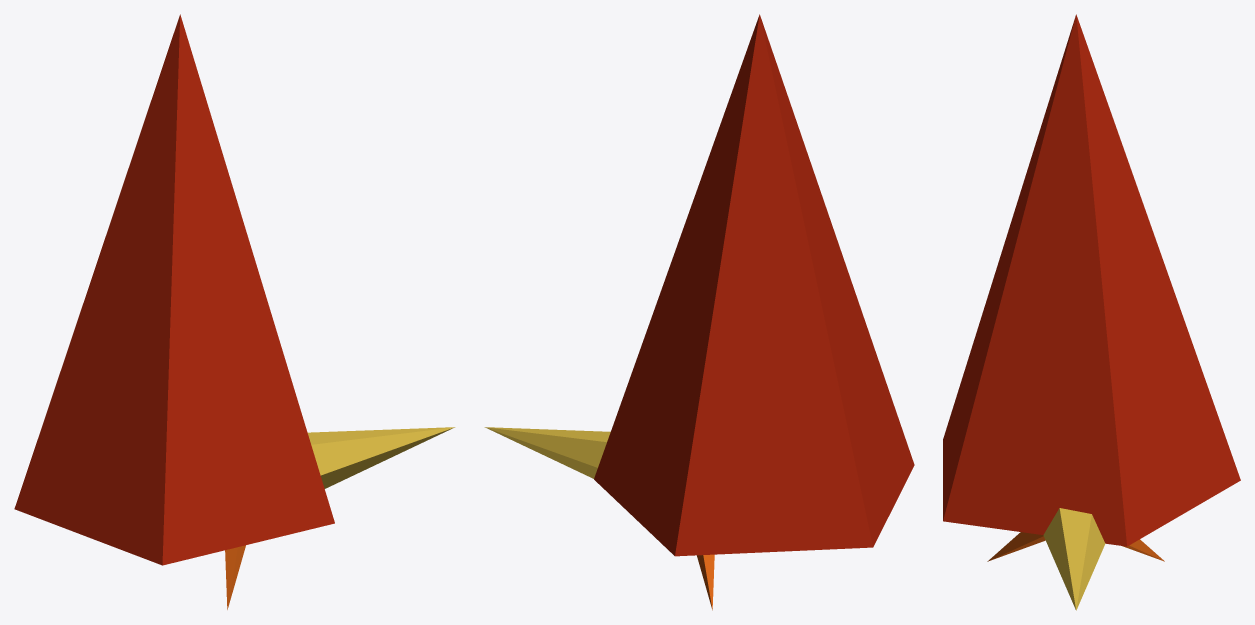
Rendered from effects.glb.
3 views of the same model, side by side, from view 1: azimuth 30°, elevation 25°; view 2: azimuth 150°, elevation 25°; view 3: azimuth 270°, elevation 25° (orthographic). The views are drawn at different scales.
Visible parts, largest first — view 1: Flame, Flash; view 2: Flame, Flash; view 3: Flame, Flash.
Part boxes in pixels (x1=…): Flame: x1=14, y1=14, x2=334, y2=565; Flash: x1=225, y1=427, x2=455, y2=609; Flame: x1=594, y1=14, x2=914, y2=556; Flash: x1=484, y1=427, x2=714, y2=610; Flame: x1=943, y1=14, x2=1240, y2=546; Flash: x1=987, y1=508, x2=1164, y2=610.
Size of what is drawn, in the model's own units: 0.4522 by 0.5867 by 0.2894.
